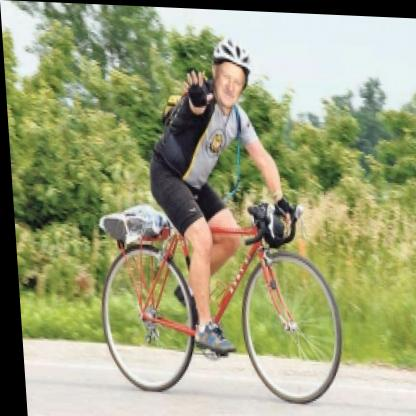With Helmet: (207, 29, 258, 110)
